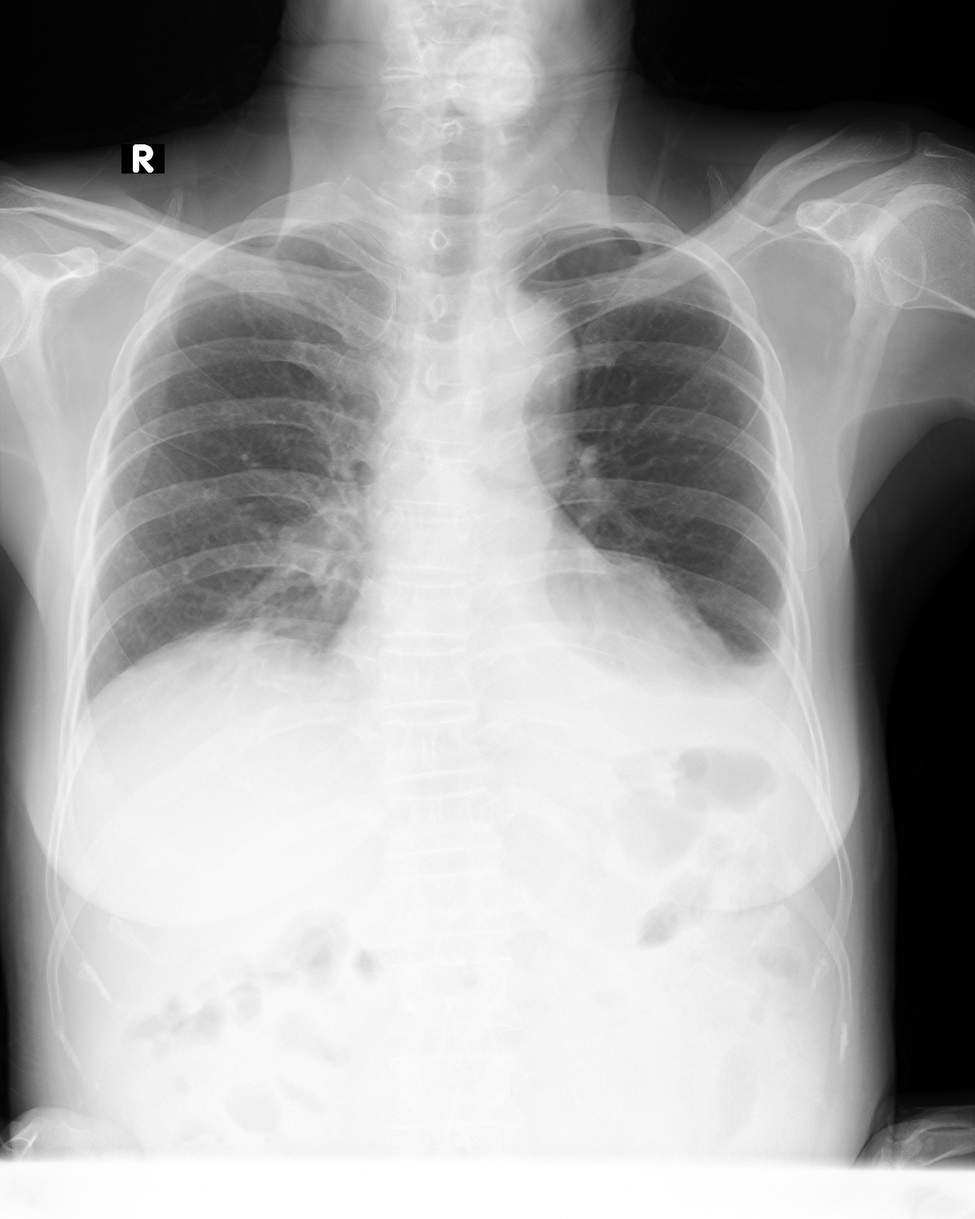Aortic enlargement: (452, 293, 580, 432)
Cardiomegaly: (325, 570, 734, 699)
Pleural thickening: (759, 596, 812, 712), (289, 216, 362, 237)
